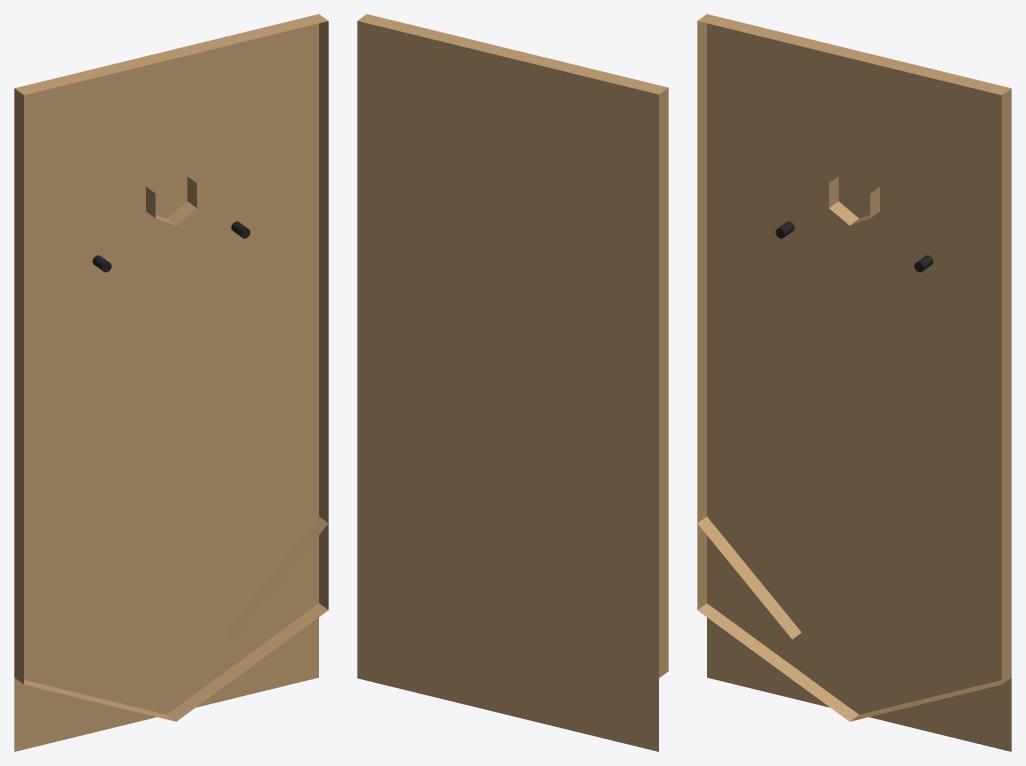
The model's file is playfield.glb.
3 renders of one model, left to right at view 1: azimuth 30°, elevation 25°; view 2: azimuth 150°, elevation 25°; view 3: azimuth 330°, elevation 25°, orthographic.
Parts seen in each view (by area): view 1: floor, walls[0], walls[1], walls[2]; view 2: floor, walls[0], walls[1]; view 3: floor, walls[0], walls[1], walls[2].
Part boxes in pixels (x1,y1,x2,y2): floor: [14, 23, 318, 751]; walls[0]: [14, 14, 328, 639]; walls[1]: [14, 524, 328, 721]; walls[2]: [146, 176, 196, 225]; floor: [357, 21, 658, 751]; walls[0]: [358, 14, 668, 591]; walls[1]: [659, 585, 668, 677]; floor: [707, 23, 1011, 751]; walls[0]: [697, 14, 1011, 639]; walls[1]: [697, 524, 1011, 721]; walls[2]: [829, 176, 879, 225].
Bounding box in the file's own units: 0.514 × 1.07 × 0.028.
